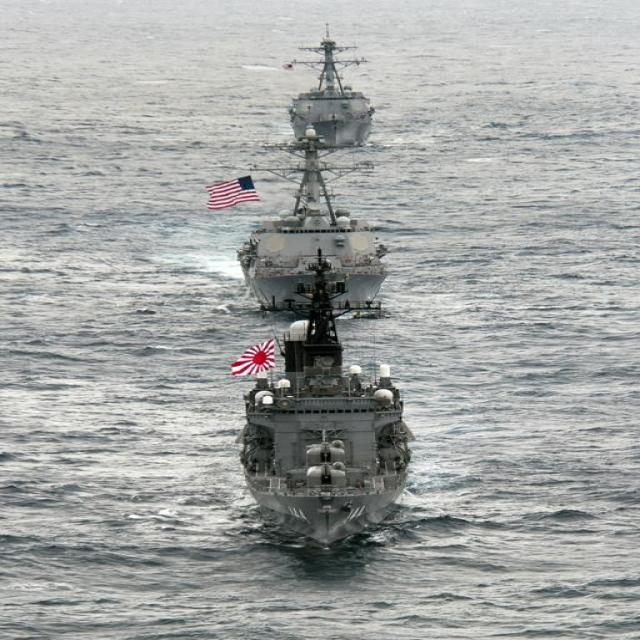navalvessels: (204, 302, 442, 549), (219, 148, 409, 317), (269, 33, 387, 155)
